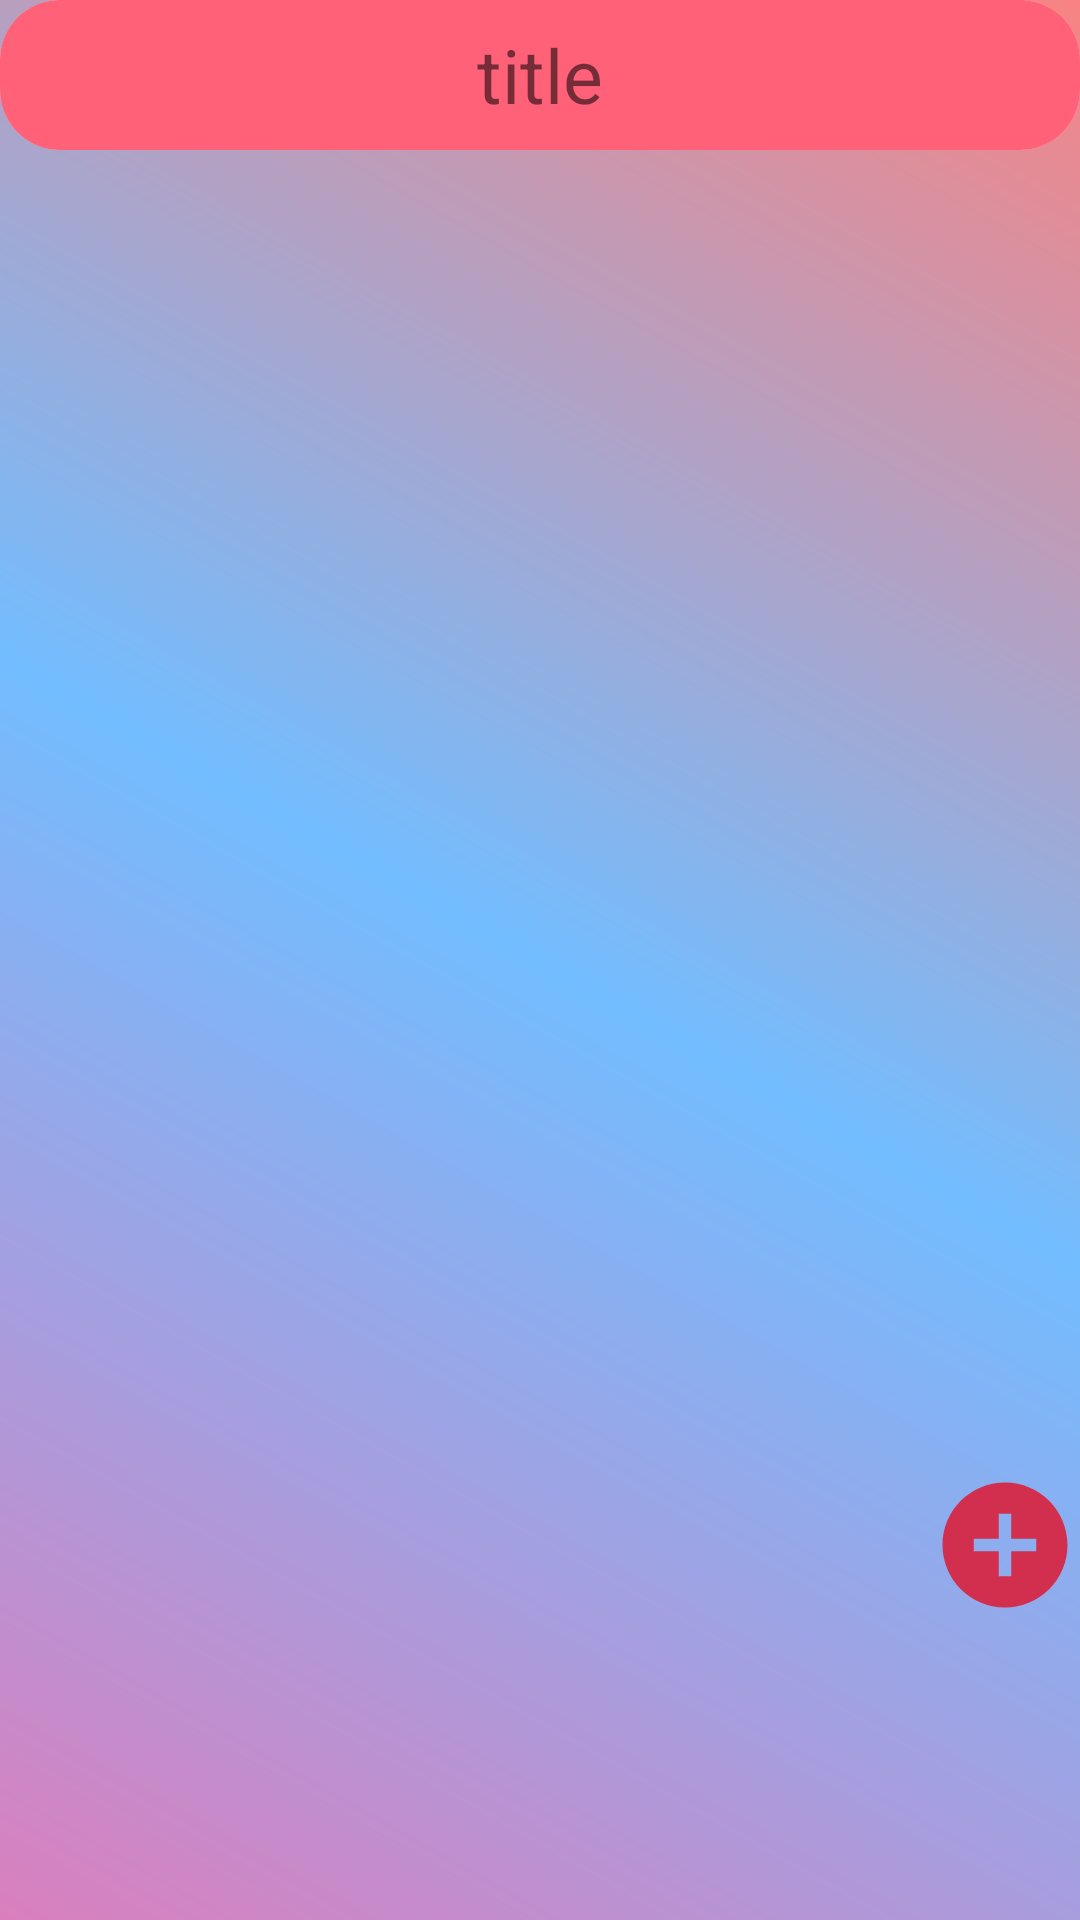

Named icons in this screenshot (1080×1920) and their bounding boxes, (x1, y1, x2, y2):
add circle: (942, 1482, 1068, 1608)
